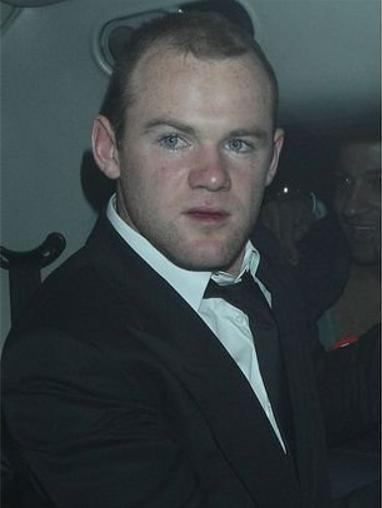Drunk: (127, 57, 278, 266)
